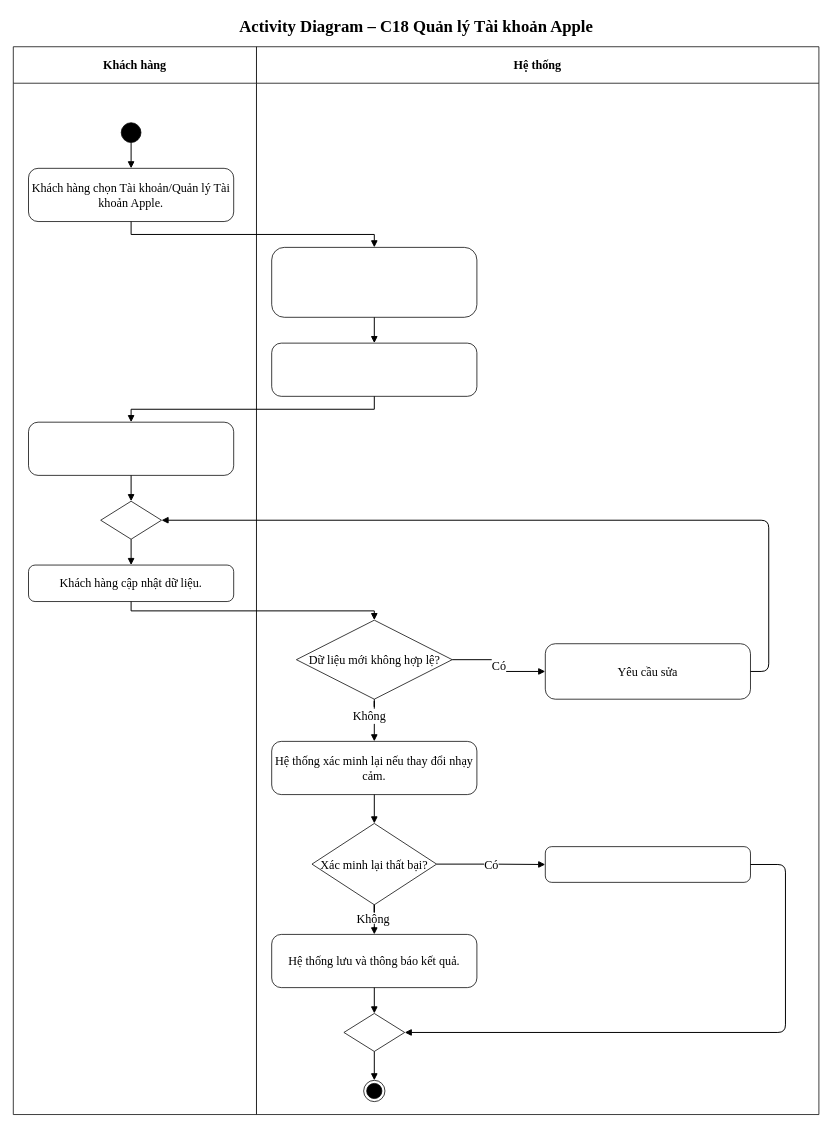
This 832x1128 diagram has some shape labels left out. Here are the shapes that lost their labels. From the top down, the box of each, then its label:
(271, 247, 477, 317): Use case thực hiện C16 – Đăng nhập Apple Store nếu chưa có phiên hợp lệ.
(271, 342, 477, 396): Hệ thống hiển thị khu vực quản lý tài khoản.
(28, 421, 234, 475): Khách hàng chọn nhóm thông tin cần xem/chỉnh sửa.
(545, 846, 750, 882): Không lưu thay đổi
